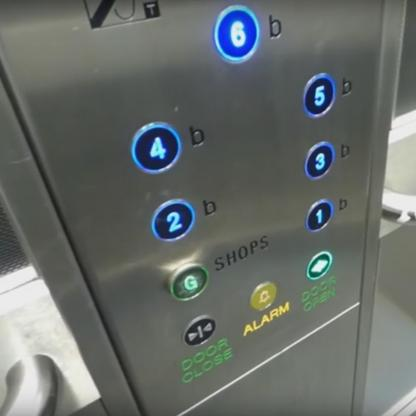1: (304, 196, 334, 234)
2: (149, 198, 196, 242)
3: (302, 140, 337, 181)
4: (129, 119, 183, 177)
5: (300, 72, 336, 119)
6: (212, 2, 262, 67)
G: (167, 260, 210, 303)
alarm: (247, 278, 282, 312)
close: (182, 313, 216, 346)
open: (307, 250, 332, 280)
